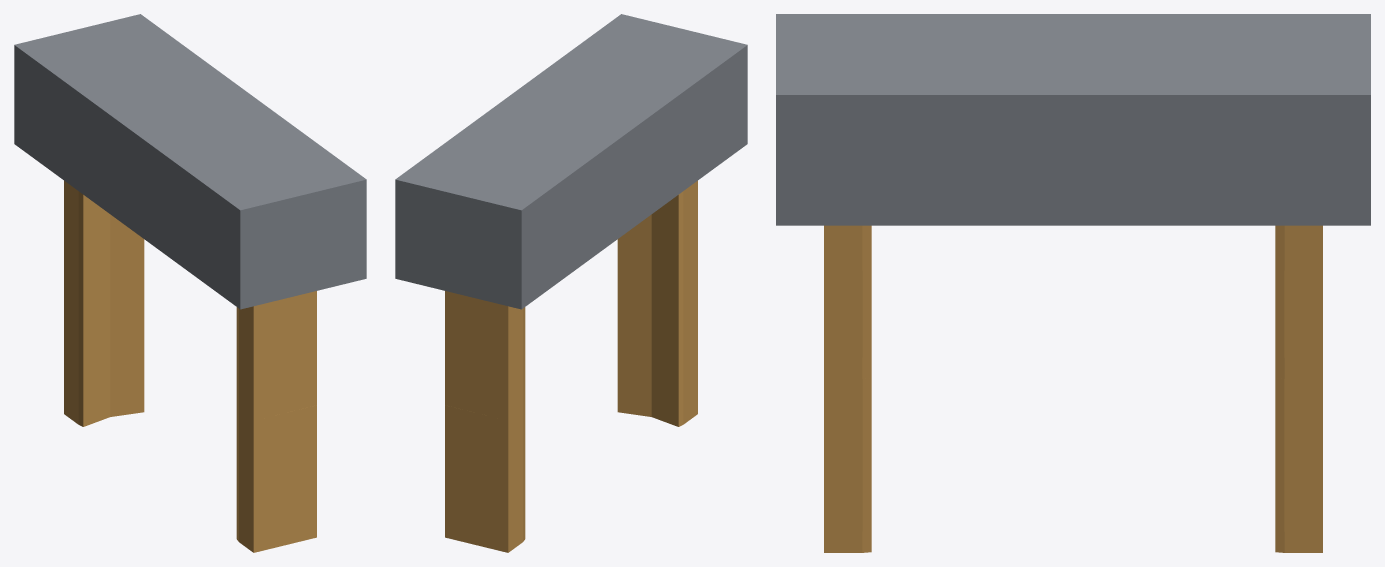
Rendered from gripper.glb.
3 views of the same model, side by side, from view 1: azimuth 30°, elevation 25°; view 2: azimuth 150°, elevation 25°; view 3: azimuth 270°, elevation 25° (orthographic). The views are drawn at different scales.
Visible parts, largest first — view 1: palm, finger_right, finger_left; view 2: palm, finger_left, finger_right; view 3: palm, finger_left, finger_right.
Part boxes in pixels (bbox=[...]): palm: bbox=[14, 14, 366, 309]; finger_right: bbox=[236, 291, 316, 552]; finger_left: bbox=[64, 180, 144, 426]; palm: bbox=[395, 14, 747, 309]; finger_left: bbox=[445, 291, 525, 552]; finger_right: bbox=[617, 180, 697, 426]; palm: bbox=[776, 14, 1370, 225]; finger_left: bbox=[1275, 225, 1322, 552]; finger_right: bbox=[824, 225, 871, 552].
Bounding box in the file's own units: 0.04 × 0.11 × 0.124.
